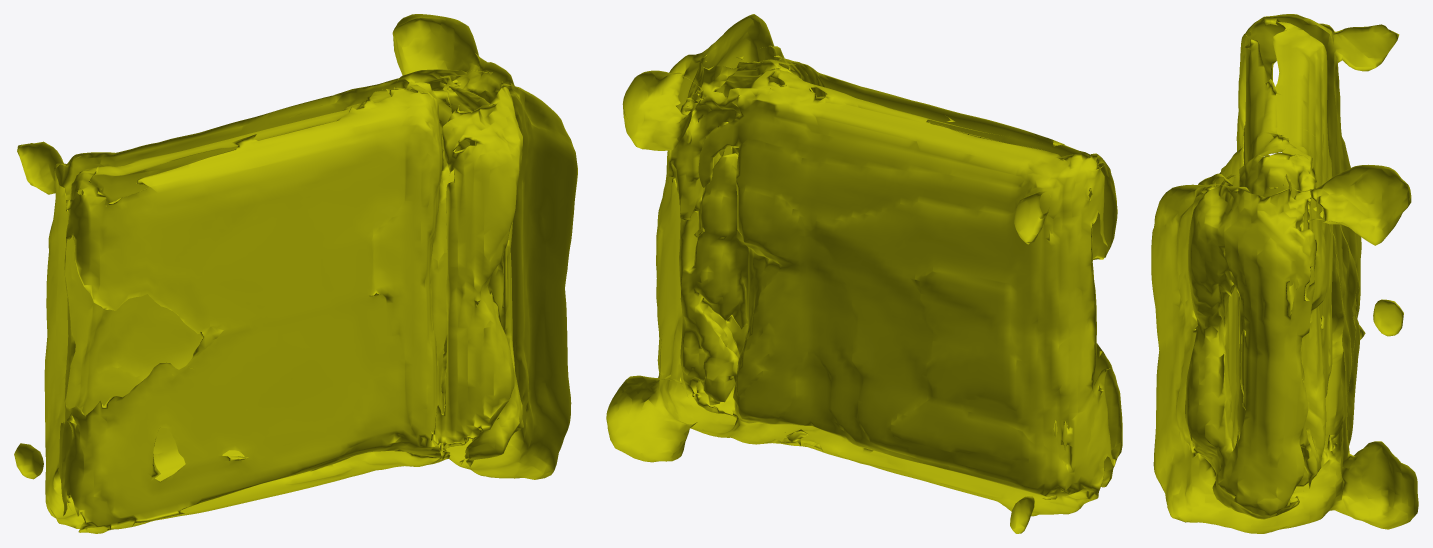
3 renders of one model, left to right at view 1: azimuth 30°, elevation 25°; view 2: azimuth 150°, elevation 25°; view 3: azimuth 270°, elevation 25°, orthographic. The views are drawn at different scales.
Visible parts, largest first — view 1: world; view 2: world; view 3: world.
Part boxes in pixels (x1,y1,x2,y2): world: (14,14,577,533); world: (606,14,1122,533); world: (1151,14,1418,533).
Size of the model in its own units: 74.37 by 60.91 by 40.94.
